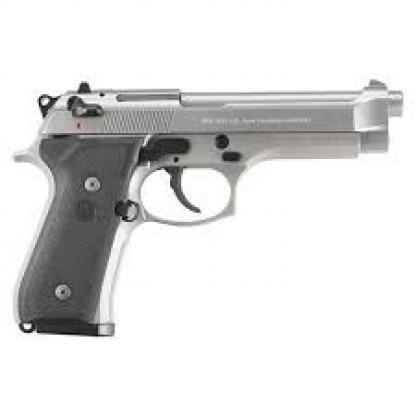Pistol: (13, 72, 407, 338)
